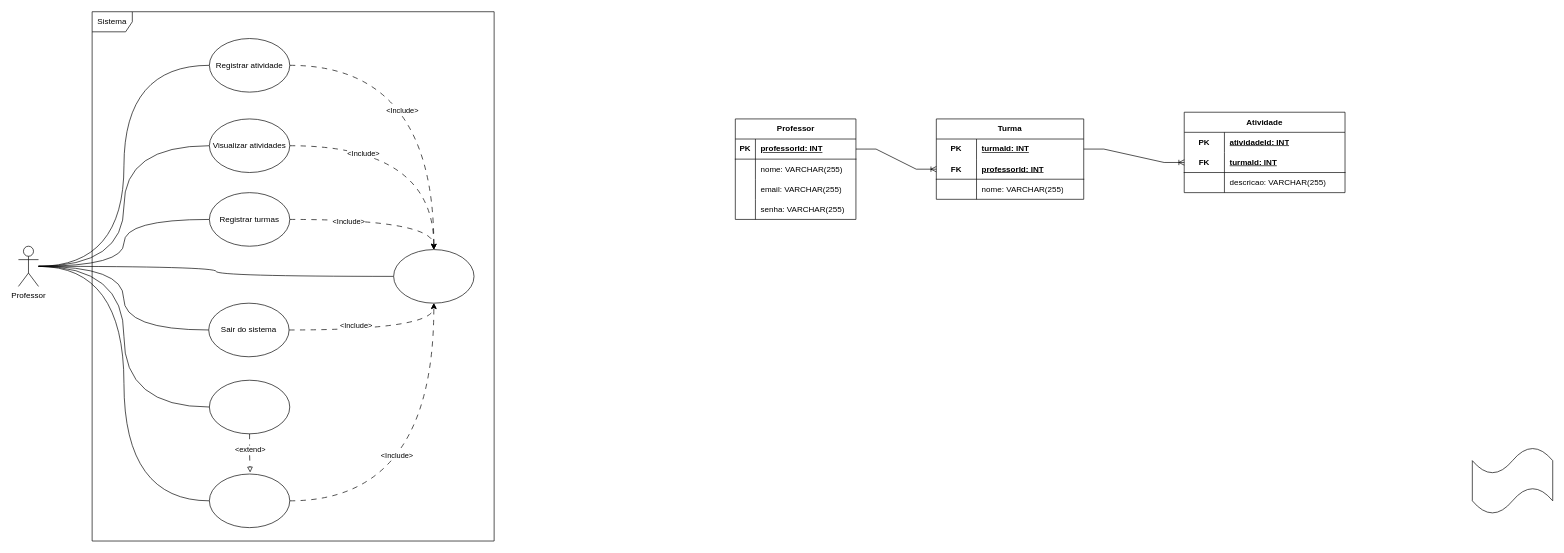
The diagram is 1564 pixels wide and 553 high, and some of its shapes have lost their labels. Here are the shapes that lost their labels. From the top down, the box of each, then its label:
(393, 249, 474, 303): Autenticar-se no sistema
(209, 380, 290, 434): Excluir turmas
(209, 473, 290, 528): Visualizar turmas
